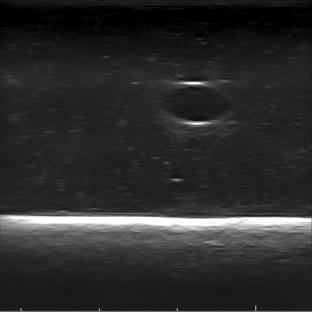vessel: (161, 80, 233, 128)
